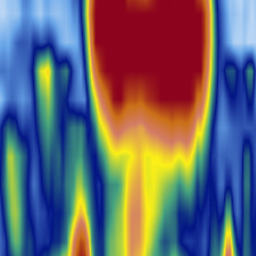defect: (75, 1, 214, 171), (27, 37, 59, 188), (1, 95, 30, 256), (63, 123, 98, 256), (113, 171, 157, 256), (239, 129, 256, 256), (215, 167, 237, 256), (223, 53, 241, 117), (241, 53, 256, 121)
